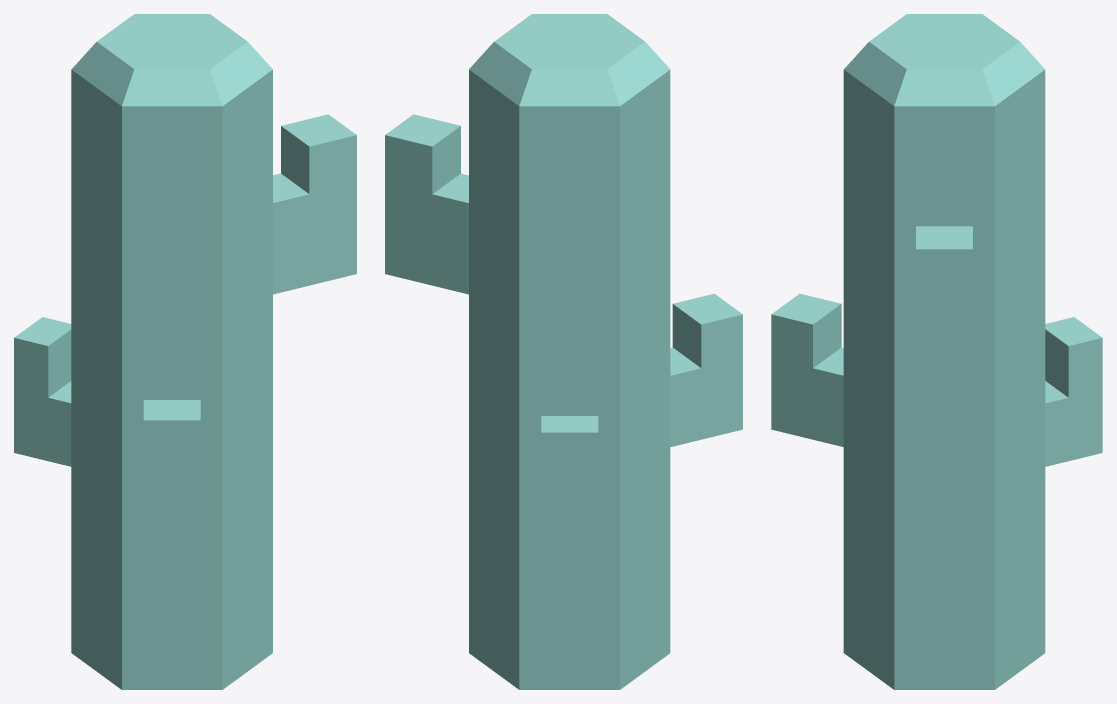
The model's file is cactus_short.glb.
3 views of the same model, side by side, from view 1: azimuth 30°, elevation 25°; view 2: azimuth 150°, elevation 25°; view 3: azimuth 270°, elevation 25° (orthographic).
Parts seen in each view (by area): view 1: cactus_short; view 2: cactus_short; view 3: cactus_short.
Boxes of the visible parts, box(x1,y1,x2,y2) form: cactus_short: box(14, 14, 356, 689); cactus_short: box(385, 14, 742, 689); cactus_short: box(771, 14, 1102, 689).
Size of the model in its own units: 0.2217 by 0.4774 by 0.2345.
